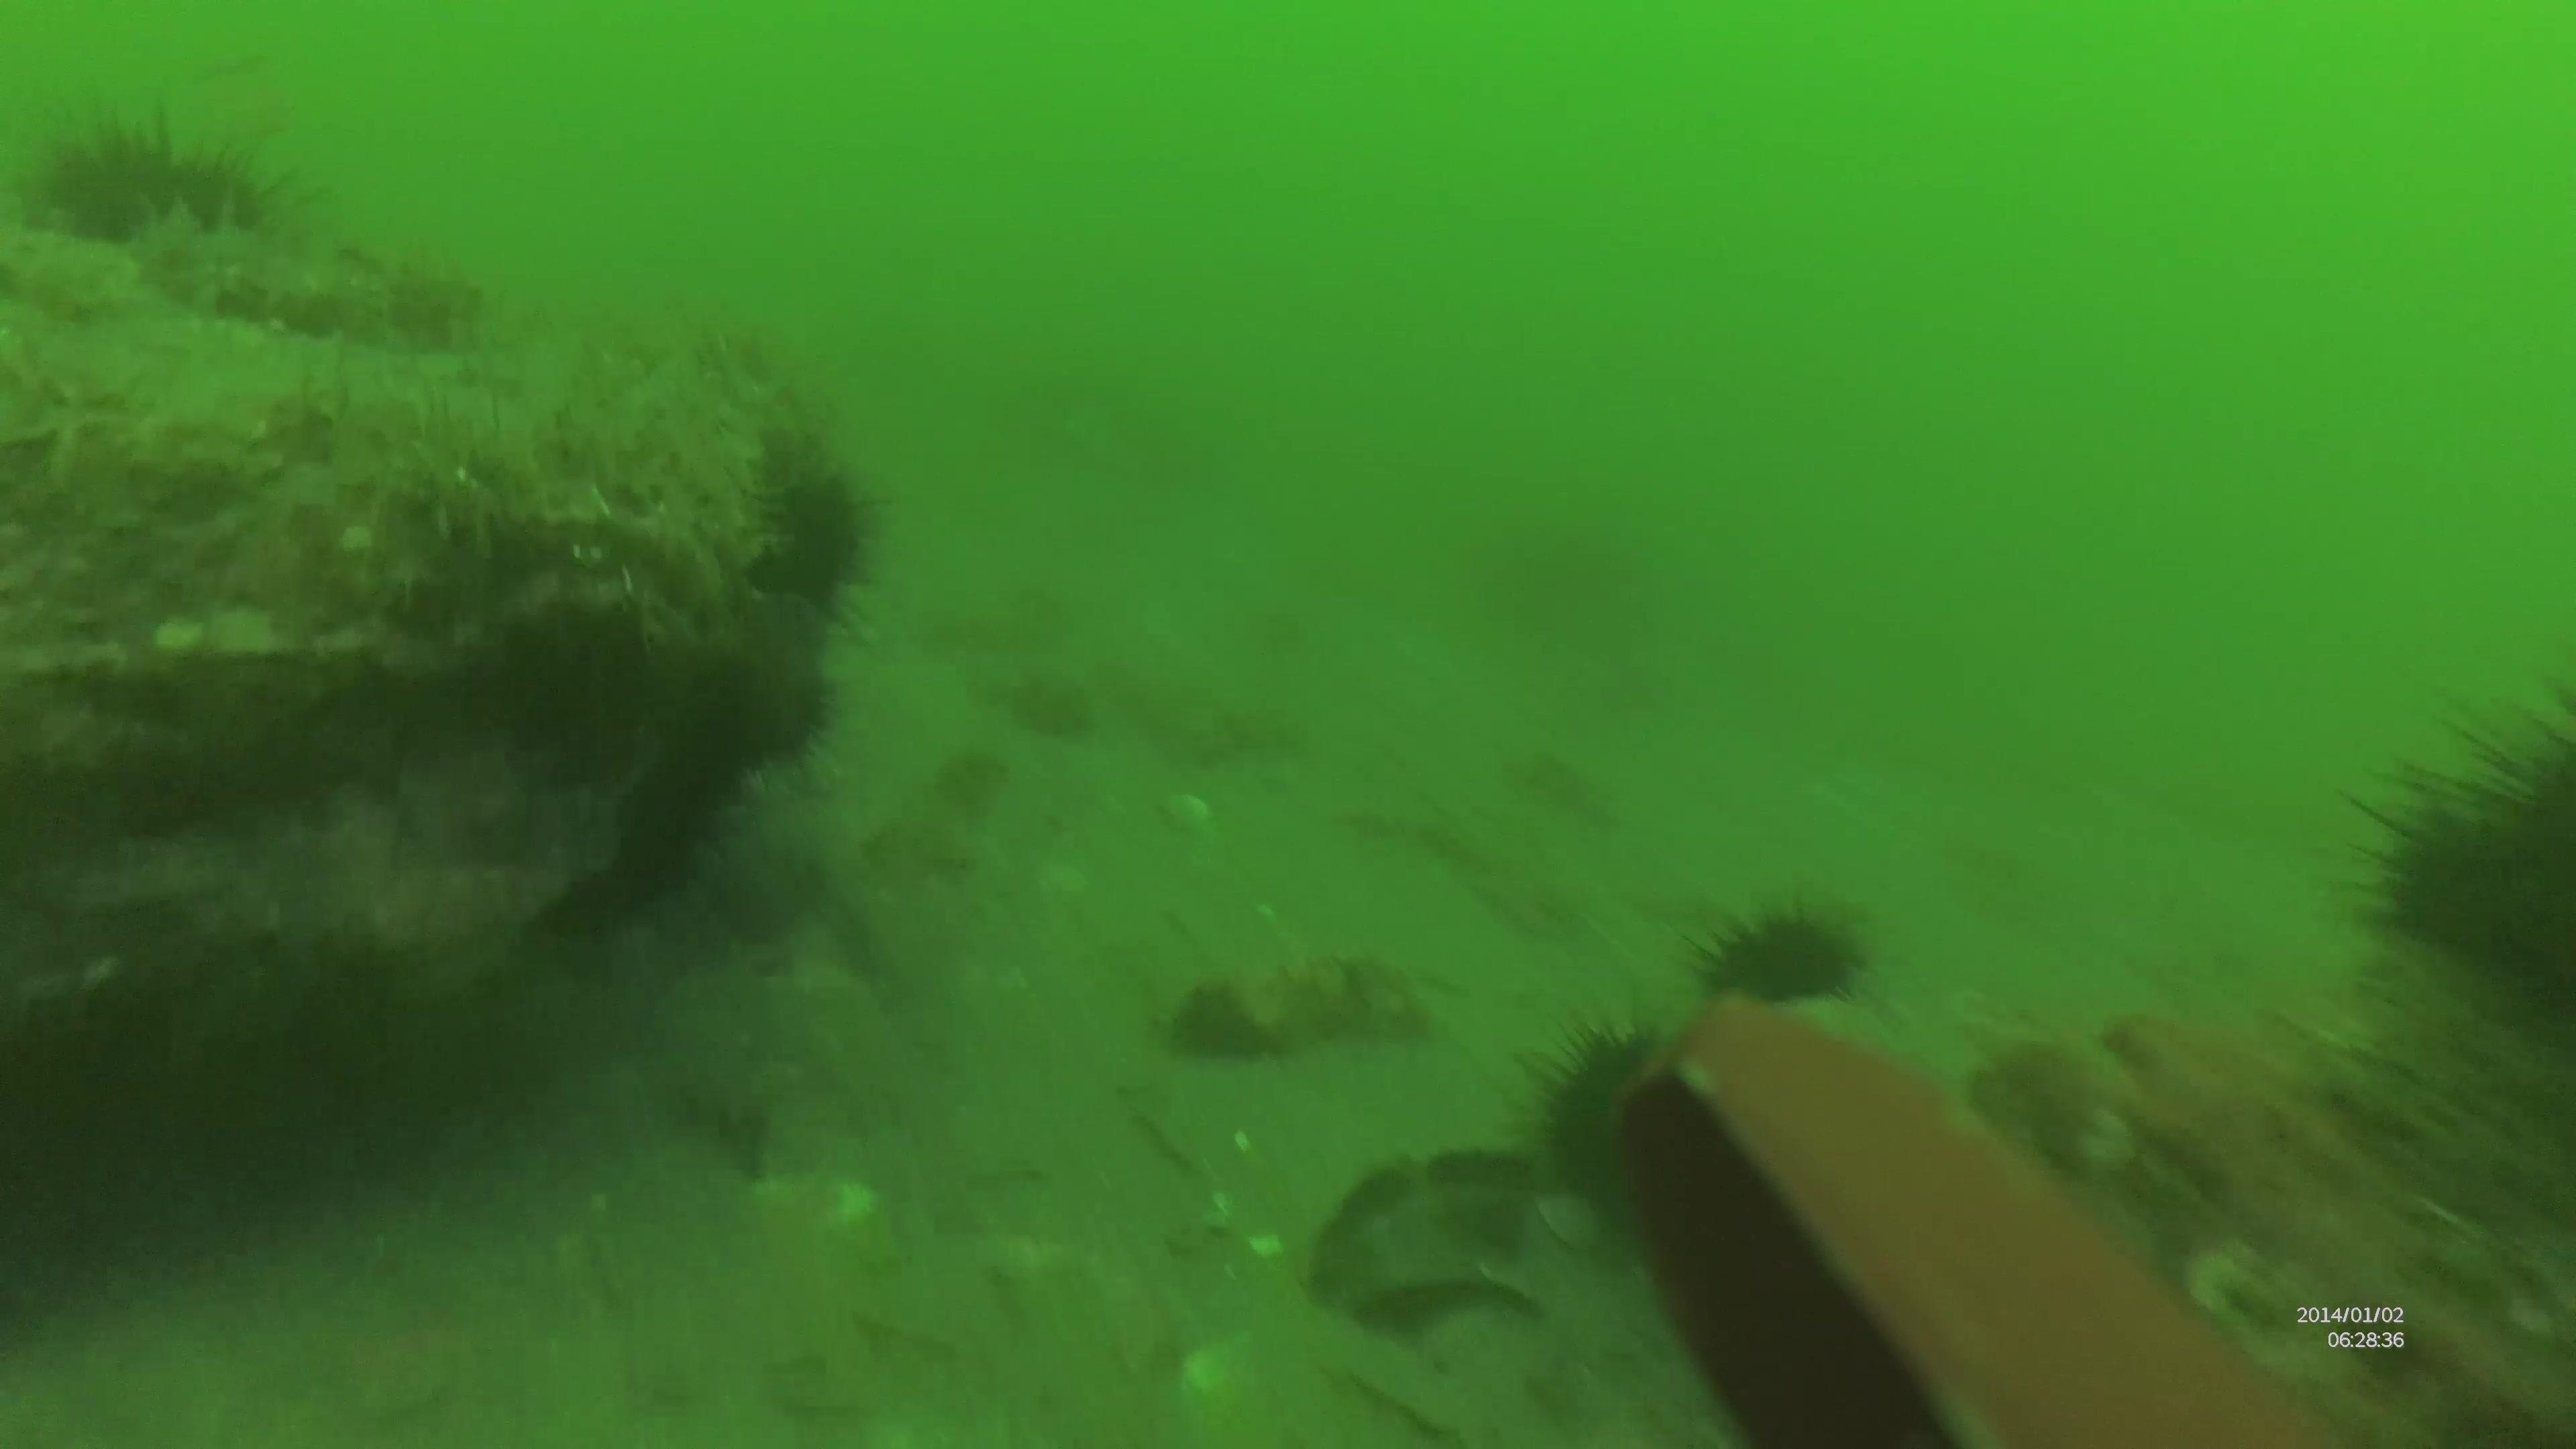echinus: (2332, 676, 2576, 1033), (25, 101, 322, 269), (1513, 1008, 1697, 1215), (731, 435, 886, 619), (1683, 890, 1875, 1016)
holothurian: (117, 211, 490, 357), (1161, 945, 1442, 1072)
